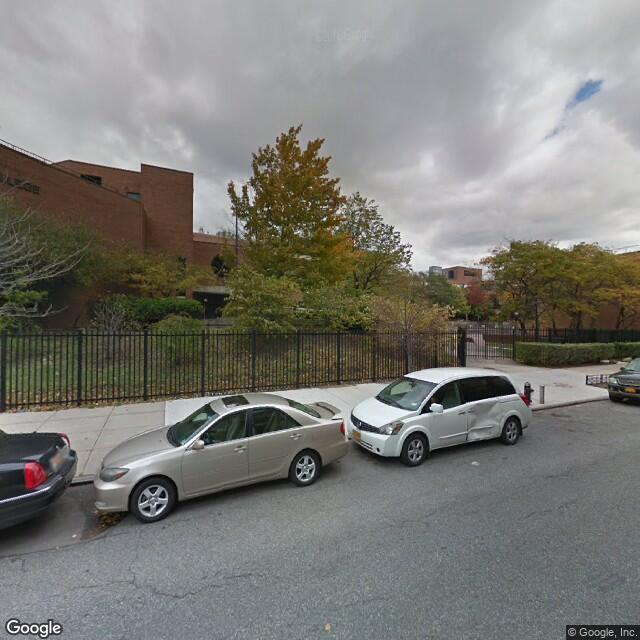litter: (470, 460, 483, 468), (67, 534, 80, 539)
